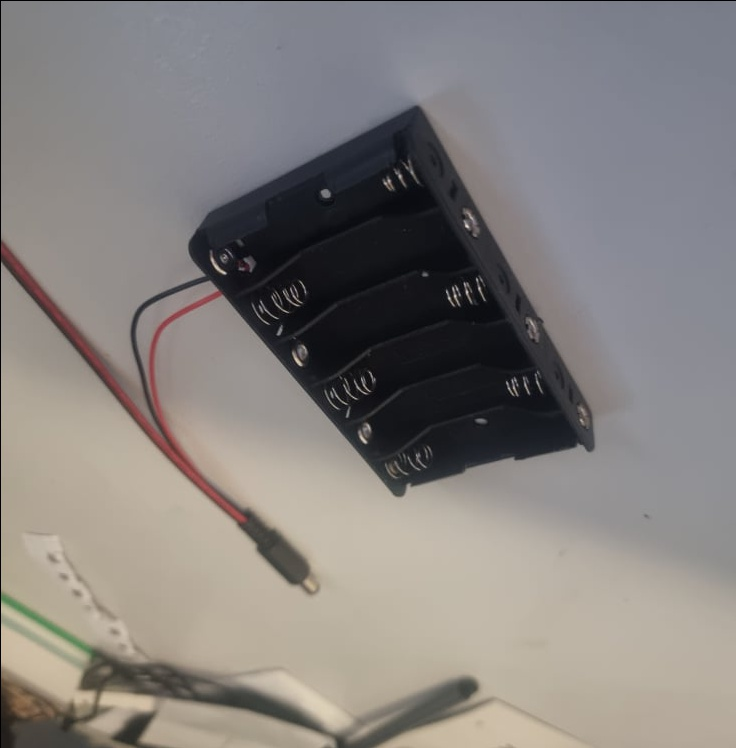BATTERY BOX: (185, 101, 592, 497)
